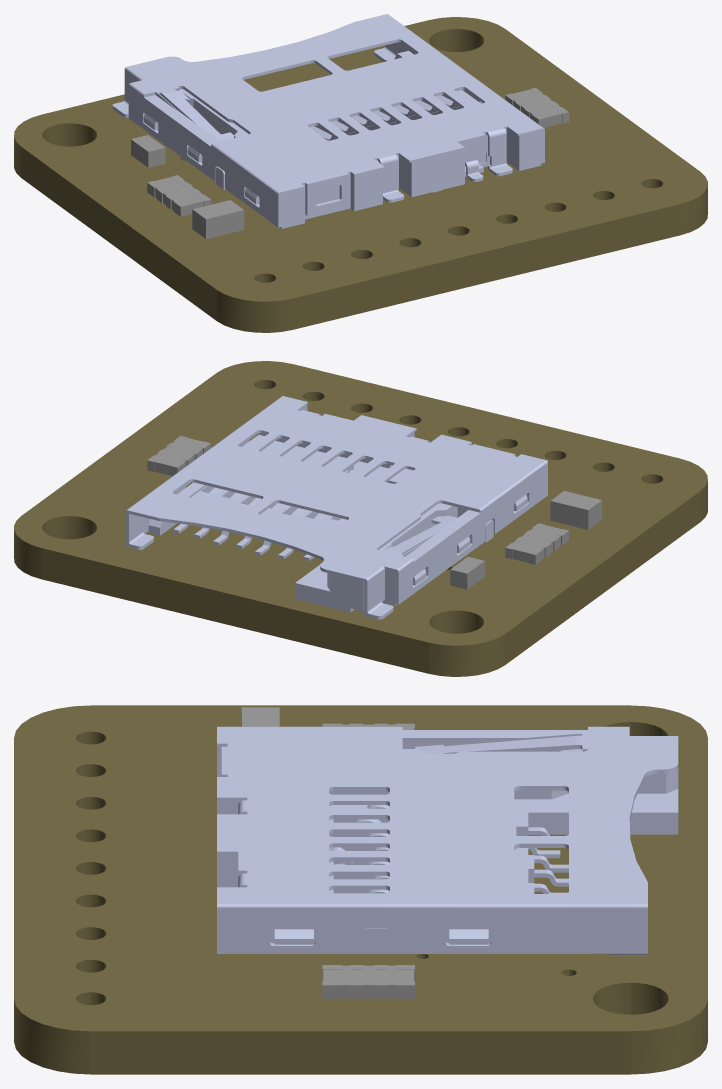
Rendered from ada-4682.glb.
3 views of the same model, one above another, from view 1: azimuth 30°, elevation 25°; view 2: azimuth 150°, elevation 25°; view 3: azimuth 270°, elevation 25° (orthographic). The views are drawn at different scales.
Visible parts, largest first — view 1: 0.16666666666666666_0.16666666666666666_0.08333333333333333_, 0.5833333333333334_0.6666666666666666_0.8333333333333334_0, 0.3333333333333333_0.3333333333333333_0.3333333333333333_0; view 2: 0.16666666666666666_0.16666666666666666_0.08333333333333333_, 0.5833333333333334_0.6666666666666666_0.8333333333333334_0, 0.3333333333333333_0.3333333333333333_0.3333333333333333_0; view 3: 0.16666666666666666_0.16666666666666666_0.08333333333333333_, 0.5833333333333334_0.6666666666666666_0.8333333333333334_0, 0.3333333333333333_0.3333333333333333_0.3333333333333333_0.
Boxes of the visible parts, box(x1,y1,x2,y2) form: 0.16666666666666666_0.16666666666666666_0.08333333333333333_: box(14, 17, 707, 332); 0.5833333333333334_0.6666666666666666_0.8333333333333334_0: box(112, 14, 544, 228); 0.3333333333333333_0.3333333333333333_0.3333333333333333_0: box(131, 87, 569, 239); 0.16666666666666666_0.16666666666666666_0.08333333333333333_: box(14, 361, 707, 676); 0.5833333333333334_0.6666666666666666_0.8333333333333334_0: box(125, 396, 547, 619); 0.3333333333333333_0.3333333333333333_0.3333333333333333_0: box(147, 436, 602, 589); 0.16666666666666666_0.16666666666666666_0.08333333333333333_: box(14, 705, 707, 1074); 0.5833333333333334_0.6666666666666666_0.8333333333333334_0: box(217, 726, 678, 955); 0.3333333333333333_0.3333333333333333_0.3333333333333333_0: box(241, 707, 414, 999).
Size of the model in its own units: 2.54 by 0.3449 by 2.29.
